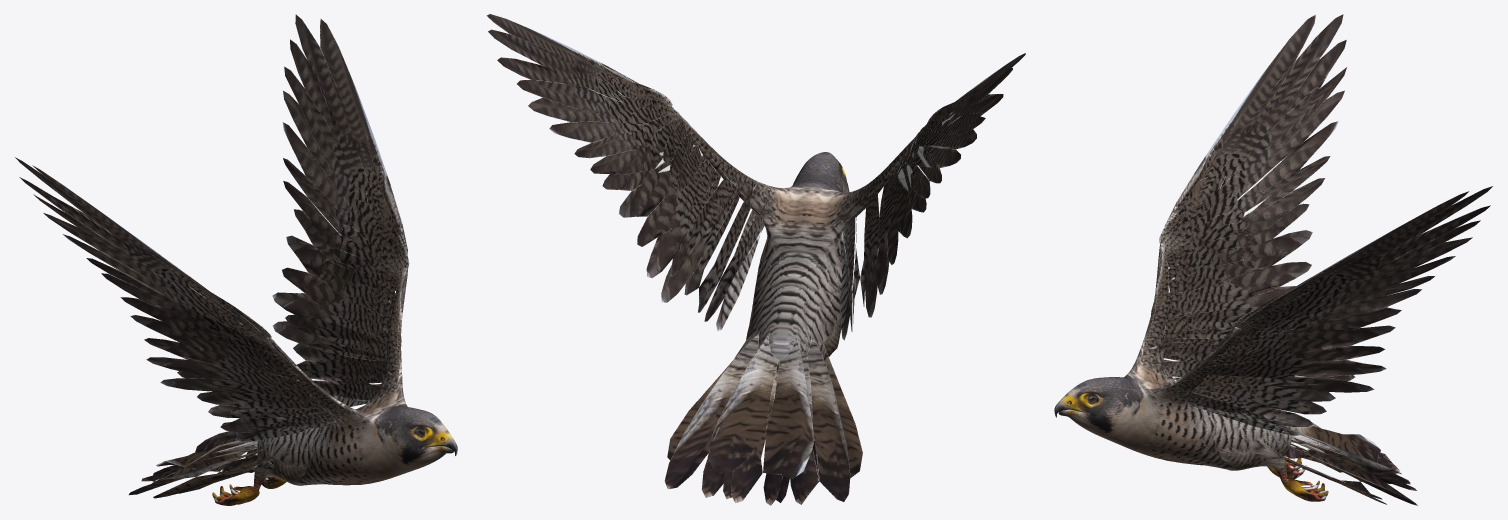
Rendered from peregrine falcon.obj.
The picture shows the model from 3 angles, left to right: view 1: azimuth 30°, elevation 25°; view 2: azimuth 150°, elevation 25°; view 3: azimuth 270°, elevation 25°; orthographic projection. The views are drawn at different scales.
Parts seen in each view (by area): view 1: falcon; view 2: falcon; view 3: falcon.
Boxes of the visible parts, left/top/right/bottom form: falcon: left=15, top=14, right=457, bottom=505; falcon: left=486, top=14, right=1025, bottom=505; falcon: left=1054, top=14, right=1492, bottom=505.
Size of the model in its own units: 7.05 by 6.93 by 7.31.
Materials: 1 (1 with a texture image).
